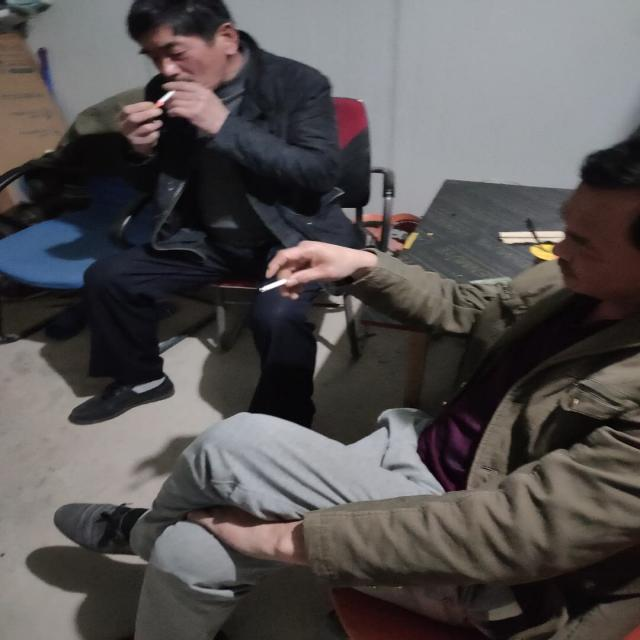cigarette: (143, 78, 194, 122)
